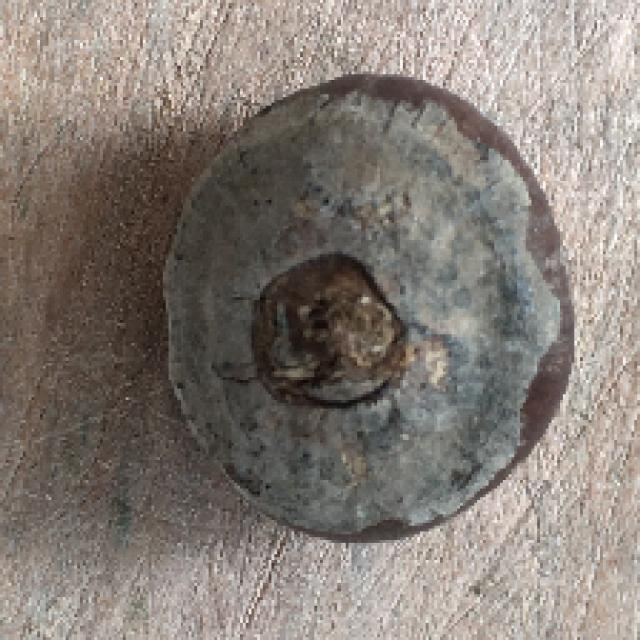damagedHazelnut: (150, 55, 590, 546)
